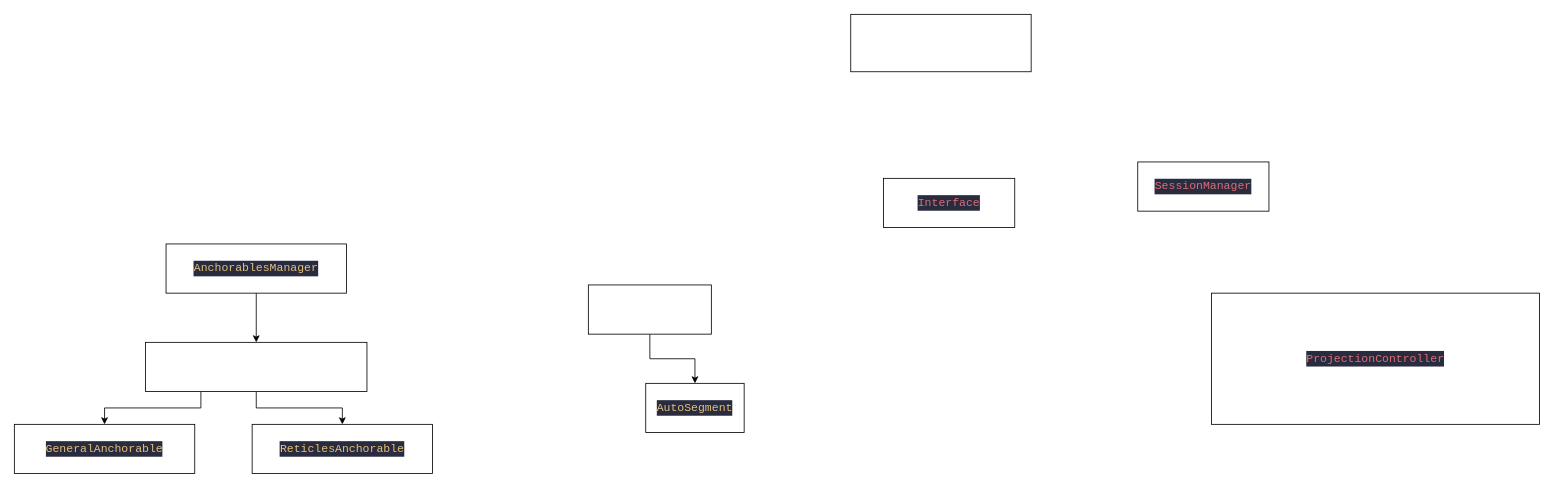
The diagram is 1554 pixels wide and 488 high, and some of its shapes have lost their labels. Each missing label, with the box of its shape:
BuiltInSelfTest: (850, 14, 1031, 72)
IAnchorable: (145, 342, 367, 392)
IAutoSegment: (588, 284, 711, 334)
